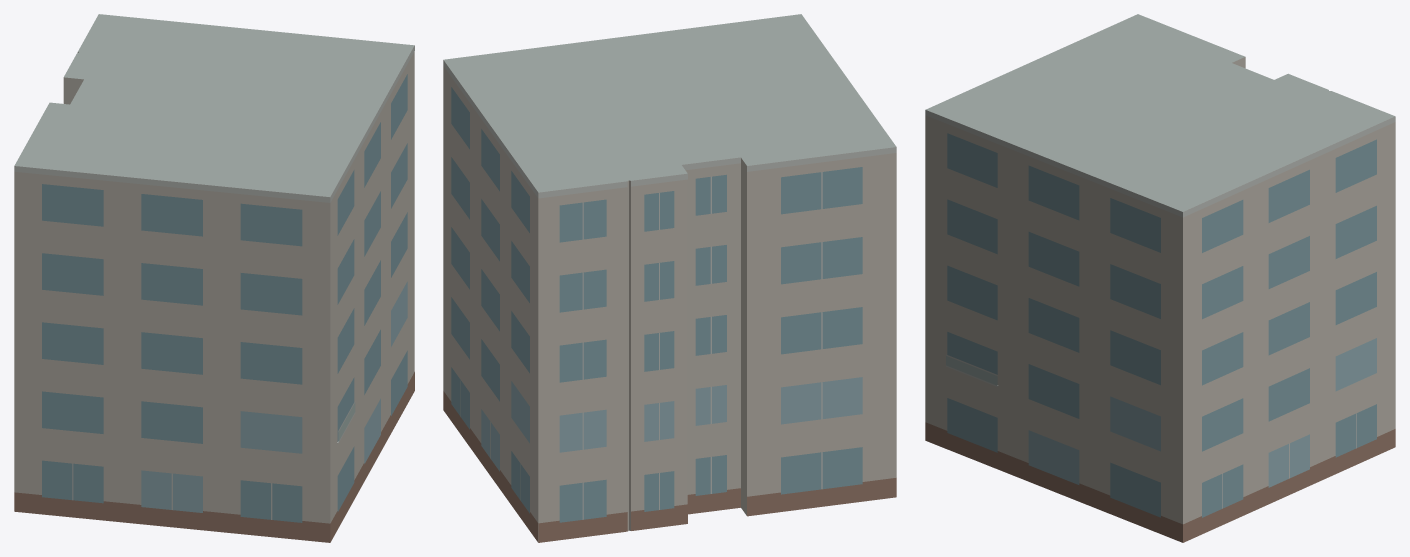
Rendered from survey-upis-32653128.glb.
3 views of the same model, side by side, from view 1: azimuth 30°, elevation 25°; view 2: azimuth 150°, elevation 25°; view 3: azimuth 270°, elevation 25° (orthographic). The views are drawn at different scales.
Parts seen in each view (by area): view 1: survey-upis-32653128.tmp; view 2: survey-upis-32653128.tmp; view 3: survey-upis-32653128.tmp.
Boxes of the visible parts, bbox=[...] form: survey-upis-32653128.tmp: bbox=[14, 14, 414, 542]; survey-upis-32653128.tmp: bbox=[443, 14, 896, 542]; survey-upis-32653128.tmp: bbox=[925, 14, 1395, 542].
Size of the model in its own units: 18.75 by 14.6 by 18.81.
